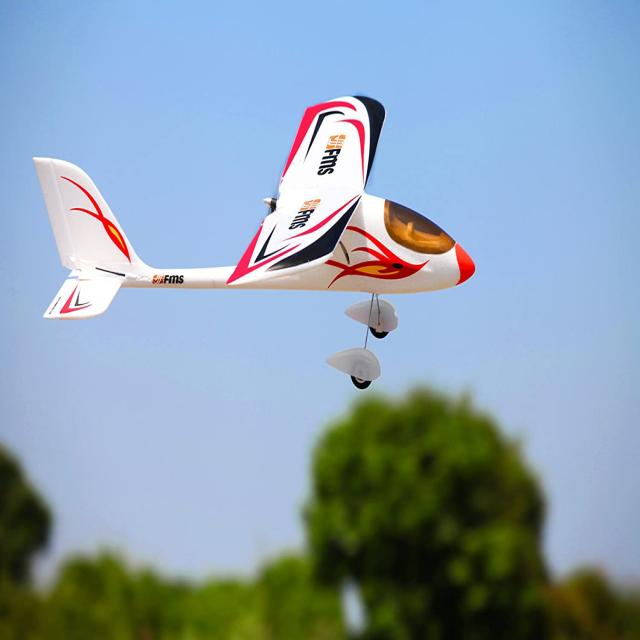iha: (31, 96, 481, 399)
